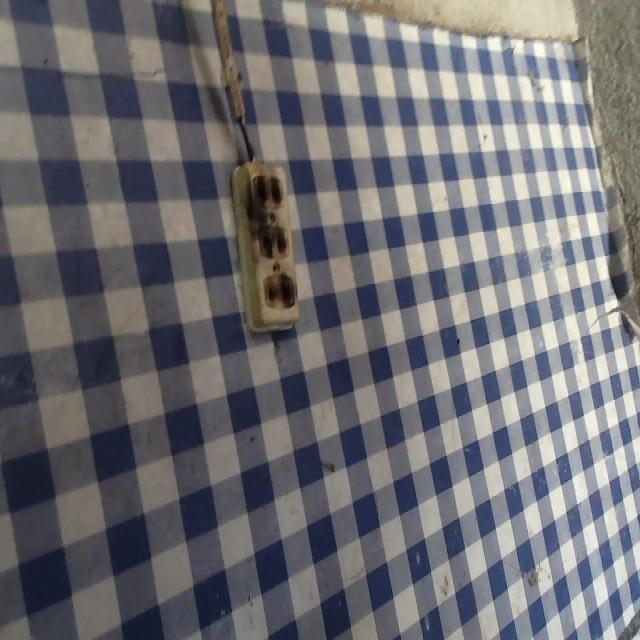-: (237, 167, 295, 214), (249, 219, 298, 265), (252, 269, 296, 311)
